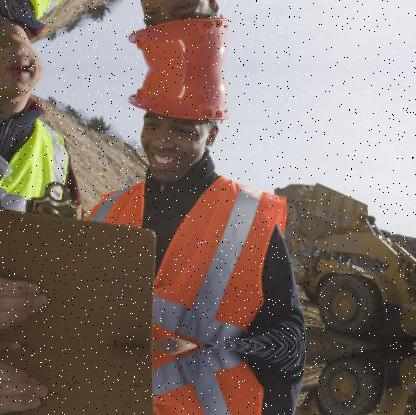helmet: (119, 68, 245, 175), (118, 0, 245, 69)
